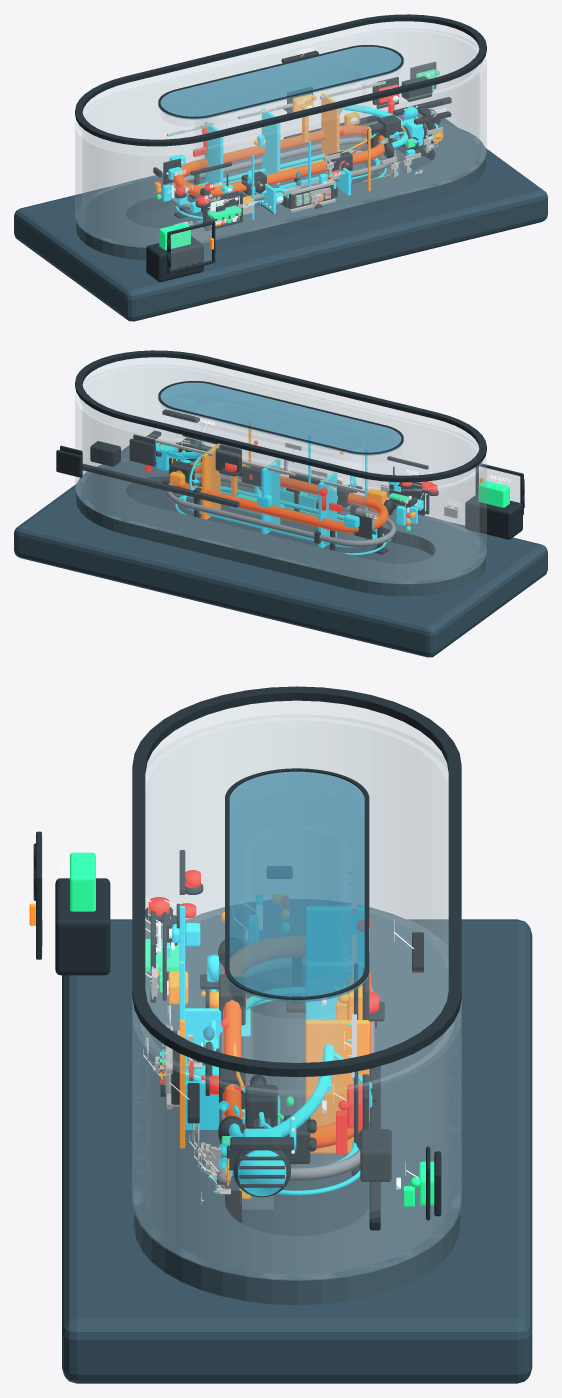
The model's file is utility-tunnel-v07.glb.
The picture shows the model from 3 angles, top to bottom: view 1: azimuth 30°, elevation 25°; view 2: azimuth 150°, elevation 25°; view 3: azimuth 270°, elevation 25°; orthographic projection. The views are drawn at different scales.
Parts seen in each view (by area): view 1: MESH_RING_OUTER_ACRYLIC, MESH_BASE_01, MESH_RING_ACRYLIC_ROOF, MESH_RING_FLOOR, MESH_RING_INNER_ACRYLIC, GEO-V21-ROOF-FULL-LID_TEMP, MESH_RING_OUTER_RAIL, PIPE-G01, MESH_CTRL_DRY_BAY, MESH_PIPE_UTILITY_01, MESH_CTRL_SERVICE_DOOR_01, GEO-V21-ROOF-FULL-GASKET_TEMP (+9 smaller); view 2: MESH_RING_OUTER_ACRYLIC, MESH_BASE_01, MESH_RING_ACRYLIC_ROOF, MESH_RING_FLOOR, MESH_RING_INNER_ACRYLIC, GEO-V21-ROOF-FULL-LID_TEMP, MESH_RING_OUTER_RAIL, PIPE-G01, MESH_PIPE_UTILITY_01, MESH_CTRL_DRY_BAY, GEO-V21-ROOF-FULL-GASKET_TEMP, MESH_GAS_SENSOR_RAIL_C01 (+11 smaller); view 3: MESH_BASE_01, MESH_RING_OUTER_ACRYLIC, MESH_RING_ACRYLIC_ROOF, MESH_RING_FLOOR, GEO-V21-ROOF-FULL-LID_TEMP, MESH_RING_OUTER_RAIL, MESH_RING_INNER_ACRYLIC, MESH_CTRL_DRY_BAY, PIPE-G01, GEO_ZONE_C_RIB, GEO-V21-ROOF-FULL-GASKET_TEMP, GEO_ZONE_A_RIB (+11 smaller).
Part boxes in pixels (x1,y1,x2,y2): MESH_RING_OUTER_ACRYLIC: (75,29,486,247); MESH_BASE_01: (14,109,547,321); MESH_RING_ACRYLIC_ROOF: (79,21,482,154); MESH_RING_FLOOR: (76,122,485,260); MESH_RING_INNER_ACRYLIC: (195,80,366,200); GEO-V21-ROOF-FULL-LID_TEMP: (158,46,403,119); MESH_RING_OUTER_RAIL: (75,14,486,146); PIPE-G01: (173,125,388,196); MESH_CTRL_DRY_BAY: (146,236,203,281); MESH_PIPE_UTILITY_01: (169,137,396,209); MESH_CTRL_SERVICE_DOOR_01: (171,225,211,269); GEO-V21-ROOF-FULL-GASKET_TEMP: (158,45,403,118); MESH_RING_OUTER_ACRYLIC: (75,365,486,583); MESH_BASE_01: (14,445,547,657); MESH_RING_ACRYLIC_ROOF: (79,357,482,490); MESH_RING_FLOOR: (76,458,485,596); MESH_RING_INNER_ACRYLIC: (195,416,366,539); GEO-V21-ROOF-FULL-LID_TEMP: (158,382,403,455); MESH_RING_OUTER_RAIL: (75,350,486,482); PIPE-G01: (175,461,388,532); MESH_PIPE_UTILITY_01: (165,473,396,546); MESH_CTRL_DRY_BAY: (465,493,522,539); GEO-V21-ROOF-FULL-GASKET_TEMP: (158,381,403,454); MESH_GAS_SENSOR_RAIL_C01: (82,463,239,507); MESH_BASE_01: (62,919,532,1383); MESH_RING_OUTER_ACRYLIC: (132,714,461,1280); MESH_RING_ACRYLIC_ROOF: (140,701,453,1093); MESH_RING_FLOOR: (134,899,459,1305); GEO-V21-ROOF-FULL-LID_TEMP: (224,771,369,1002); MESH_RING_OUTER_RAIL: (132,686,461,1077); MESH_RING_INNER_ACRYLIC: (244,994,348,1167); MESH_CTRL_DRY_BAY: (55,878,110,975); PIPE-G01: (223,936,371,1148); GEO_ZONE_C_RIB: (305,1020,369,1153); GEO-V21-ROOF-FULL-GASKET_TEMP: (224,768,369,999); GEO_ZONE_A_RIB: (306,906,364,961).
Size of what is drawn, in the model's own units: 1.96 by 0.6763 by 1.01.
